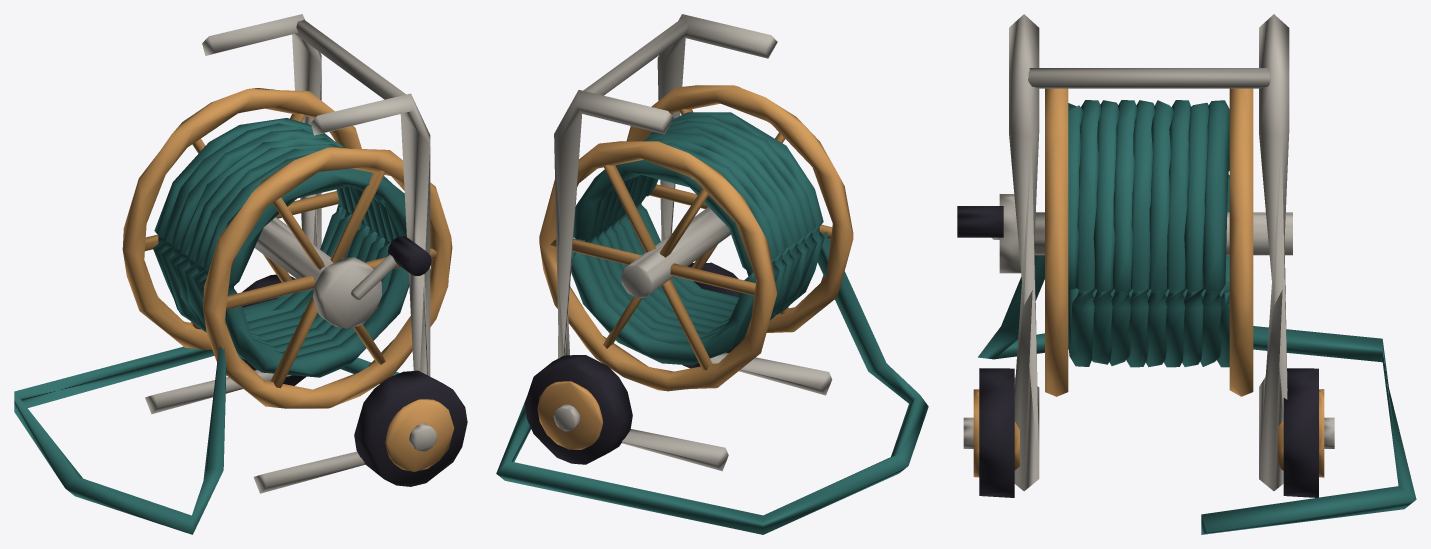
3 views of the same model, side by side, from view 1: azimuth 30°, elevation 25°; view 2: azimuth 150°, elevation 25°; view 3: azimuth 270°, elevation 25° (orthographic). The views are drawn at different scales.
Size of the model in its own units: 0.9166 by 0.878 by 0.8447.
